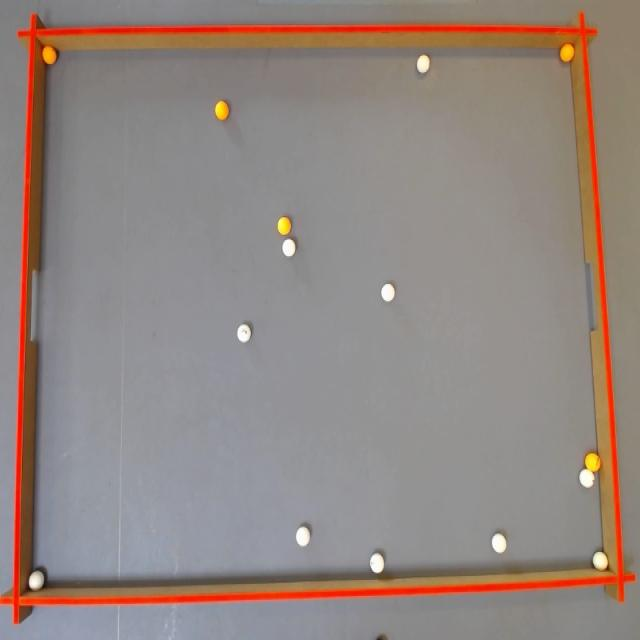orange_ball: (585, 452, 600, 472), (560, 43, 574, 62), (214, 101, 228, 120), (42, 46, 56, 64), (278, 217, 290, 234)
white_ball: (28, 570, 45, 591), (592, 551, 608, 571), (492, 532, 506, 554), (579, 469, 595, 488), (296, 526, 310, 547), (370, 553, 384, 574), (381, 283, 395, 302), (282, 238, 296, 256), (237, 324, 251, 342), (416, 54, 429, 73)
